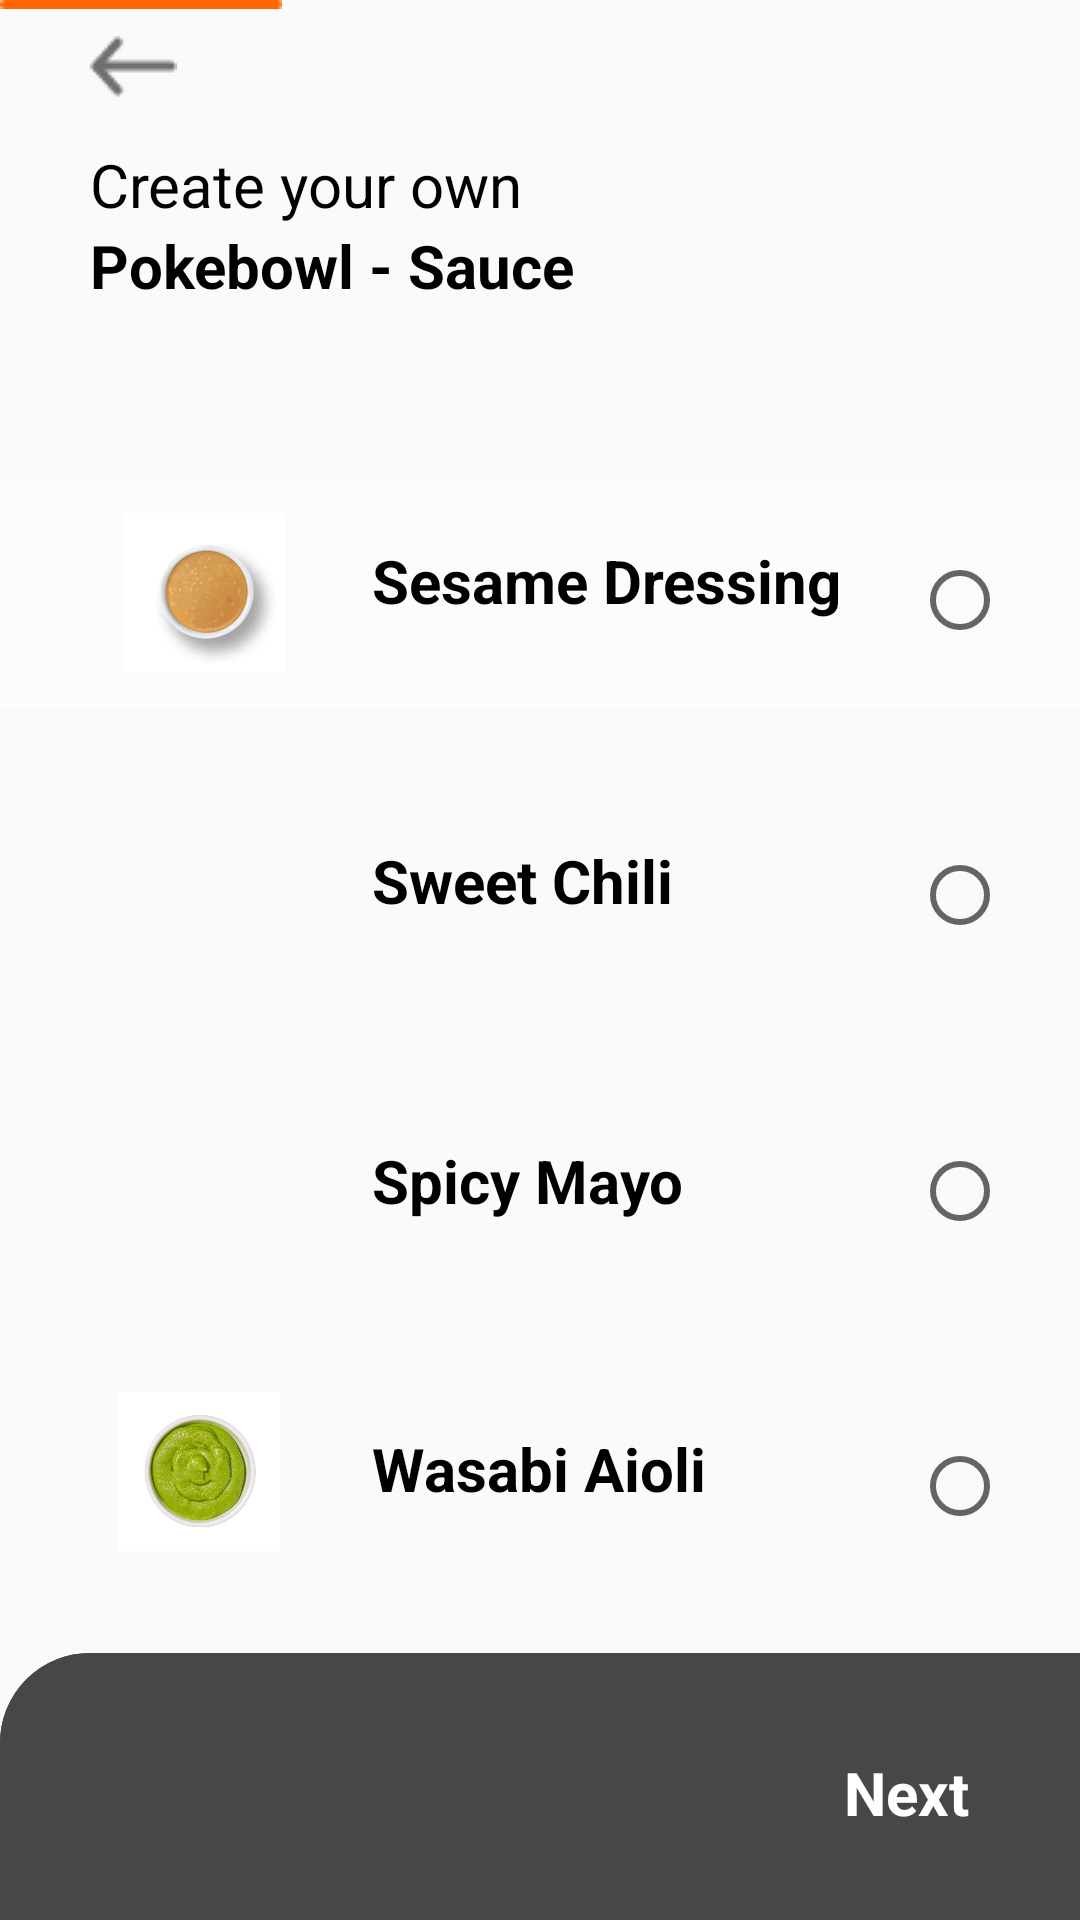

Icon click points for this 1080×1920 phone screenshot, format (x=x, y=y):
Arrow: (x=133, y=66)
